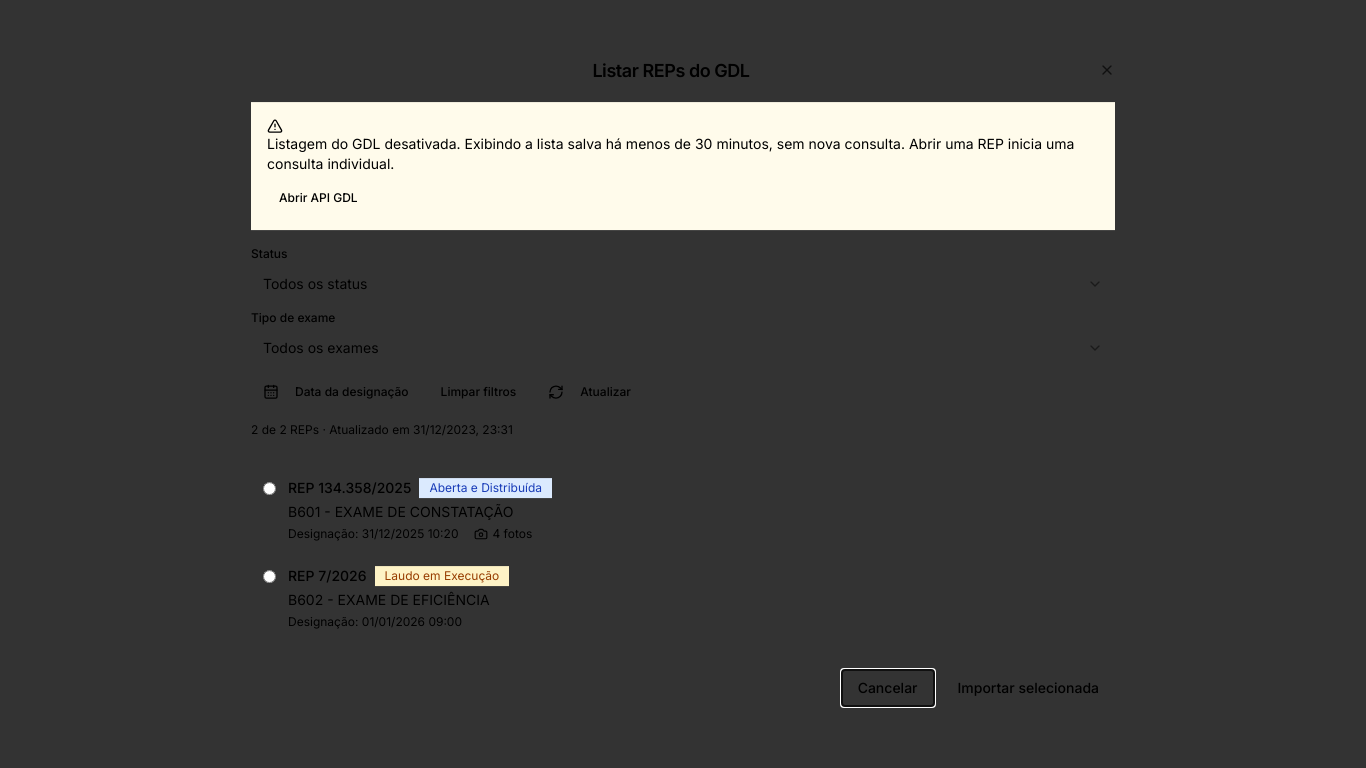
Test: modal Minhas REPs do GDL com cache compartilhado › exibe cache recente sem consultar GDL quando a listagem está desativada
Expected: the text "2 de 2 REPs · Atualizado em 31/12/2023, 23:31" is shown, [251,422,513,438]
Expected: the text "sem nova consulta" is shown, [267,135,1074,172]
Click the button "Atualizar": (590, 392) [536,374,643,410]
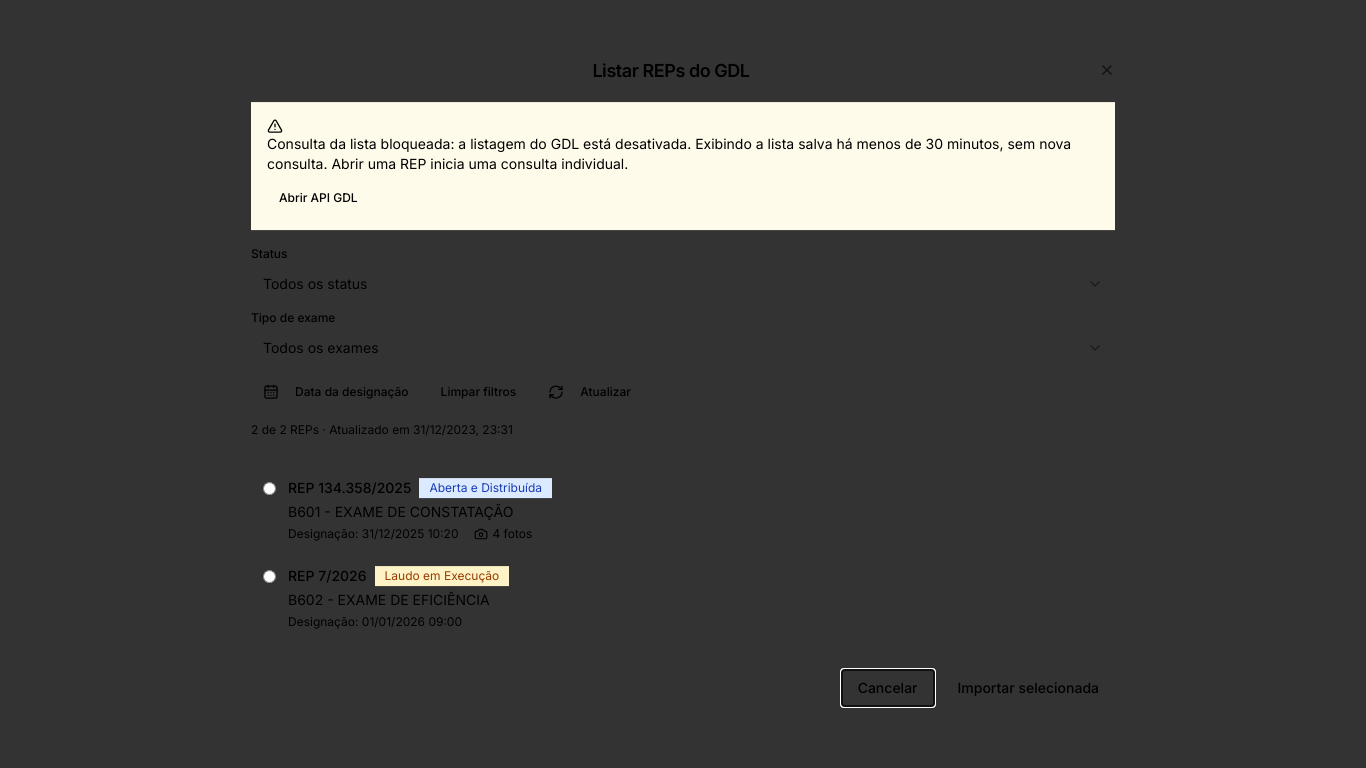
Now the text "Consulta da lista bloqueada" is shown, box [267,135,695,152]
